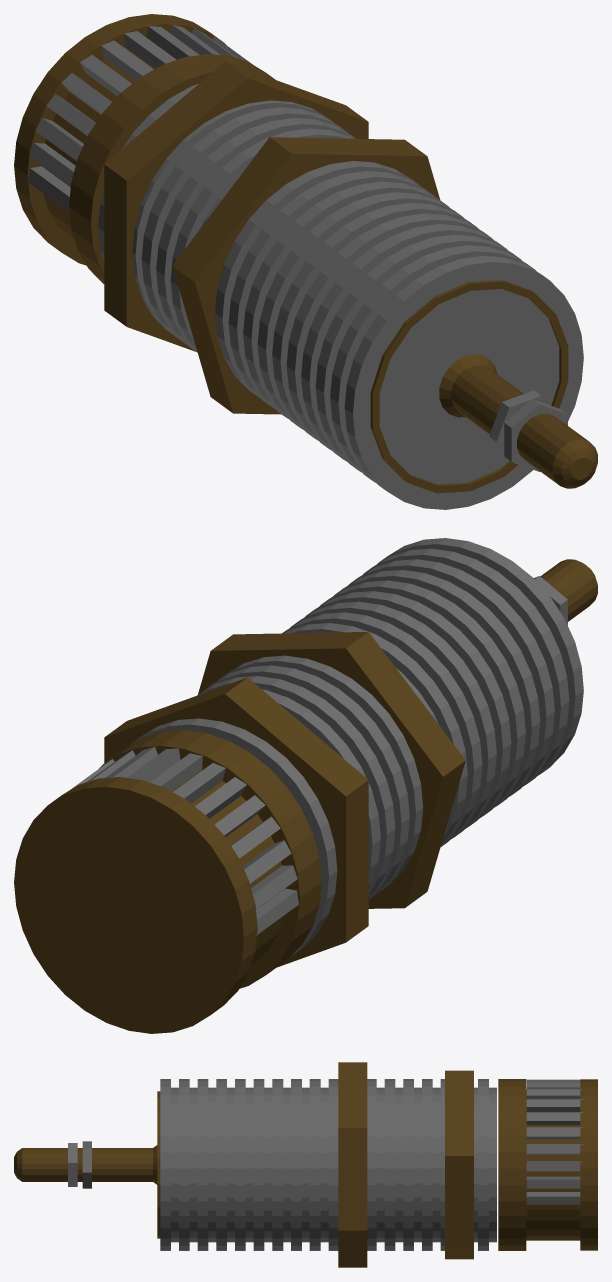
3 renders of one model, top to bottom at view 1: azimuth 30°, elevation 25°; view 2: azimuth 150°, elevation 25°; view 3: azimuth 270°, elevation 25°, orthographic. The views are drawn at different scales.
Visible parts, largest first — view 1: Circle; view 2: Circle; view 3: Circle.
Part boxes in pixels (x1,y1,x2,y2): Circle: (14, 14, 597, 509); Circle: (14, 538, 597, 1033); Circle: (14, 1062, 597, 1267).
Size of the model in its own units: 2.35 by 2.42 by 6.79.
